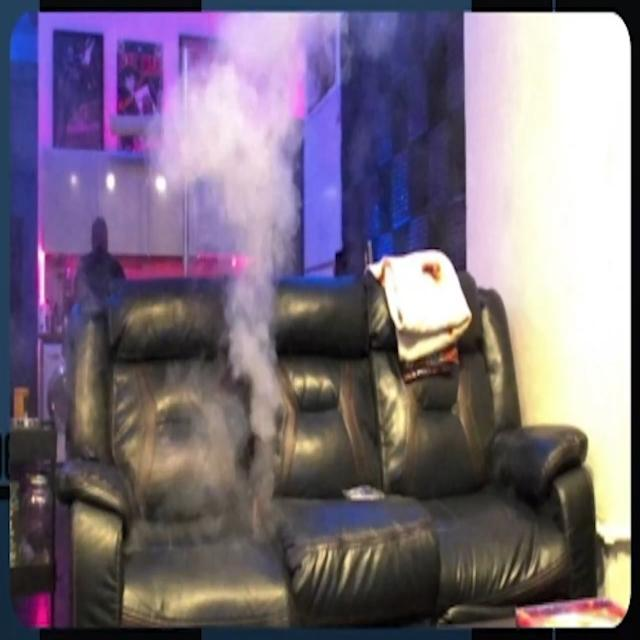Smoke: (166, 19, 310, 510)
